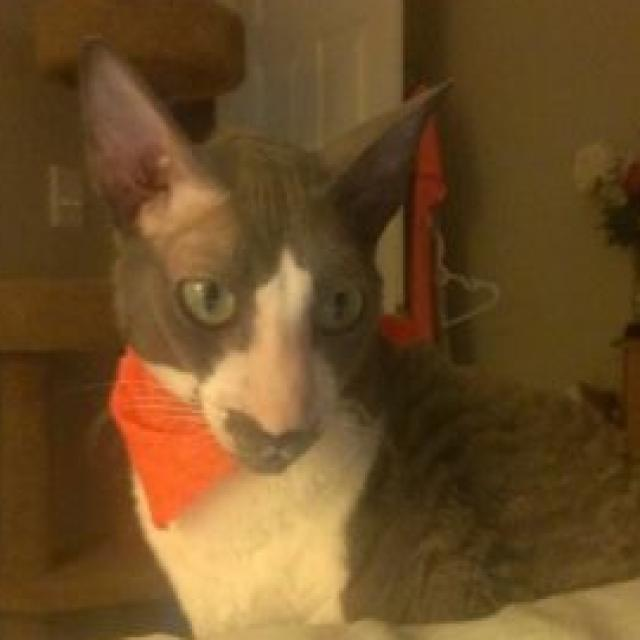Cornish Rex: (64, 24, 640, 640)
